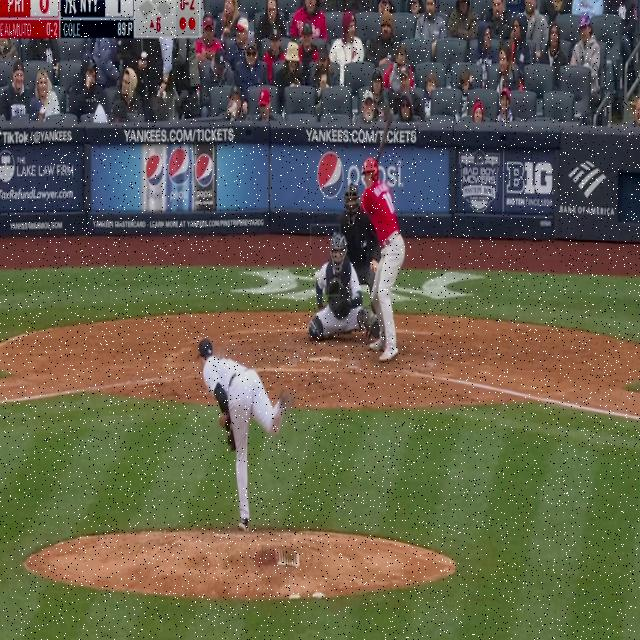baseball: (314, 271, 320, 281)
